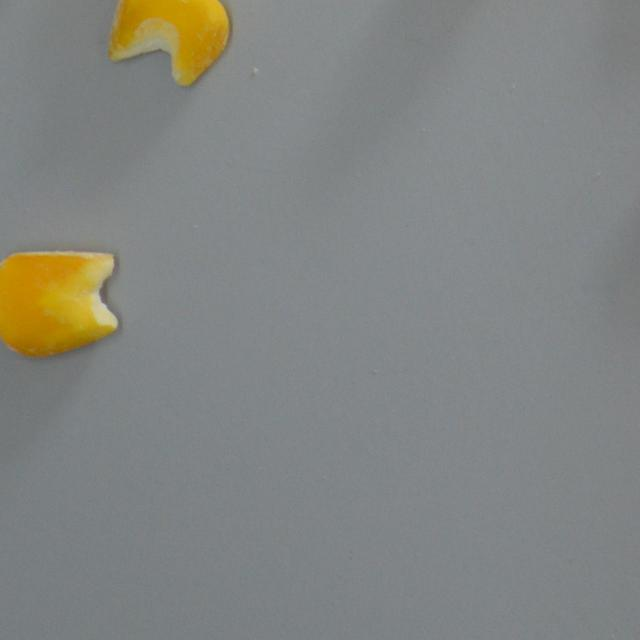no_canjicado: (0, 249, 118, 358)
pelicula: (106, 0, 230, 86)
